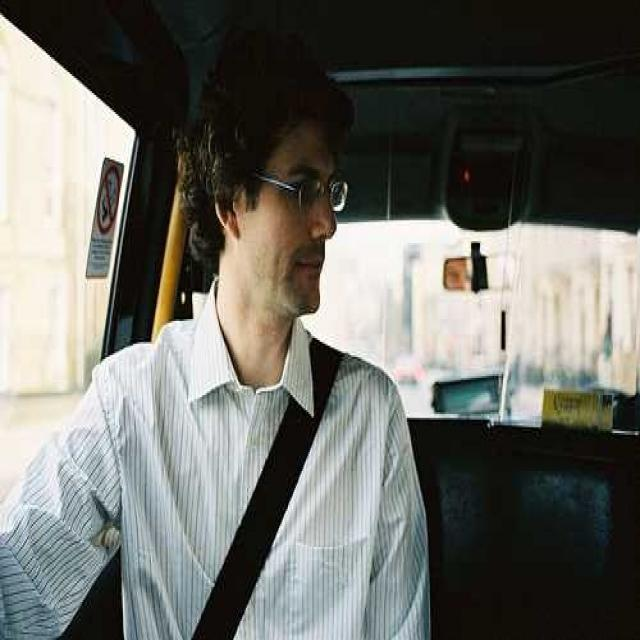seatbelt: (176, 328, 368, 602)
